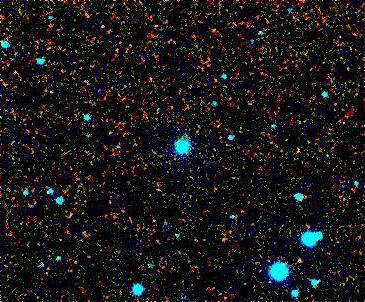star: (286, 245, 316, 275)
